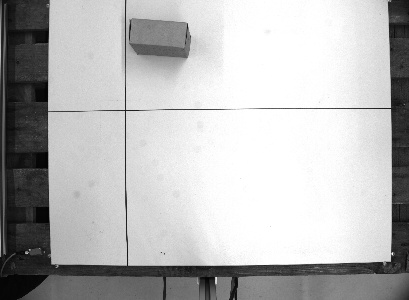b6: (125, 15, 196, 60)
